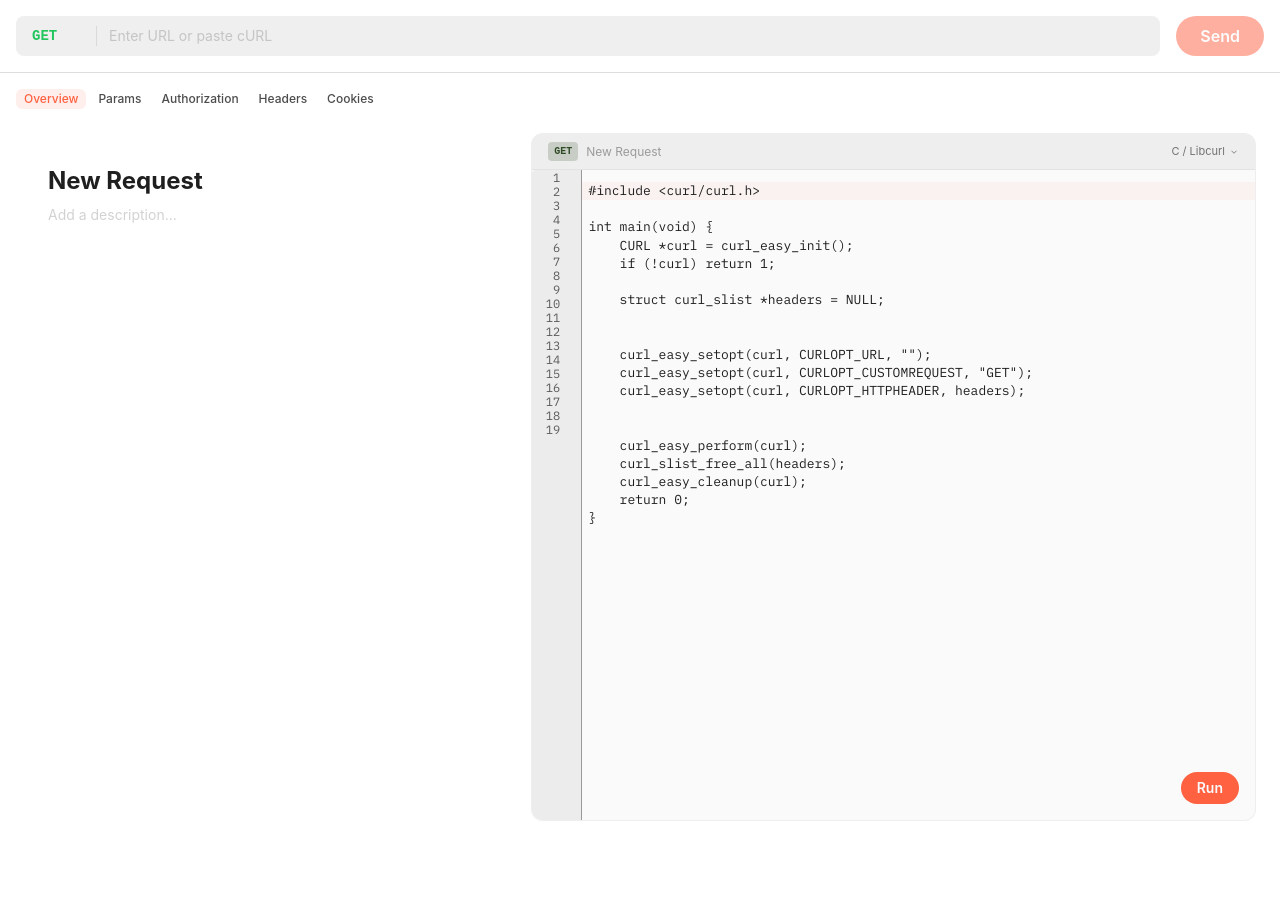
REST response view › renders a completed chunked text/event-stream response in its appropriate view
Click the button "Headers" at (283, 99), box [251,89,315,109]
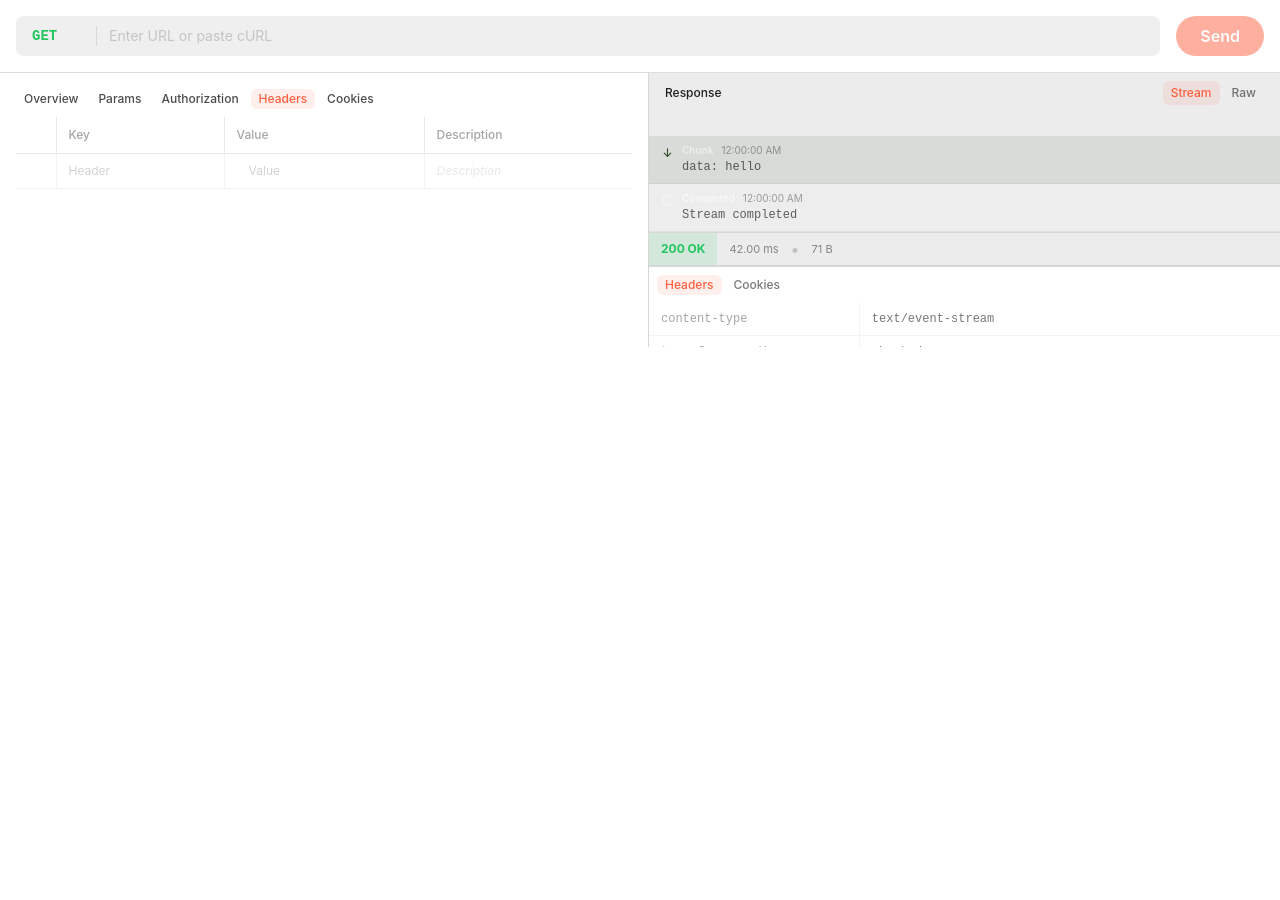
Result: the button "Stream" is shown at [1163,81,1220,105]
Result: the text "Stream completed" is shown at [682,208,797,222]
